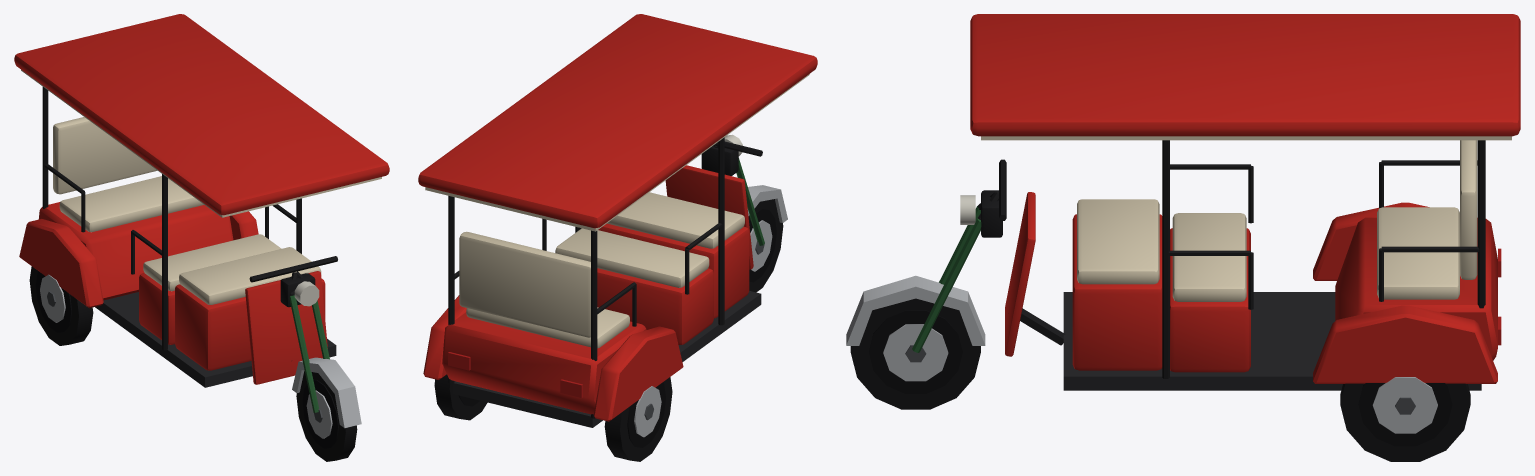
Rendered from tirri.glb.
3 views of the same model, side by side, from view 1: azimuth 30°, elevation 25°; view 2: azimuth 150°, elevation 25°; view 3: azimuth 270°, elevation 25° (orthographic). The views are drawn at different scales.
Visible parts, largest first — view 1: body; view 2: body; view 3: body.
Boxes of the visible parts, x1,y1,x2,y2 form: body: [14, 14, 389, 461]; body: [418, 14, 817, 461]; body: [846, 14, 1520, 461].
Bounding box in the file's own units: 1.27 × 1.72 × 3.1.
